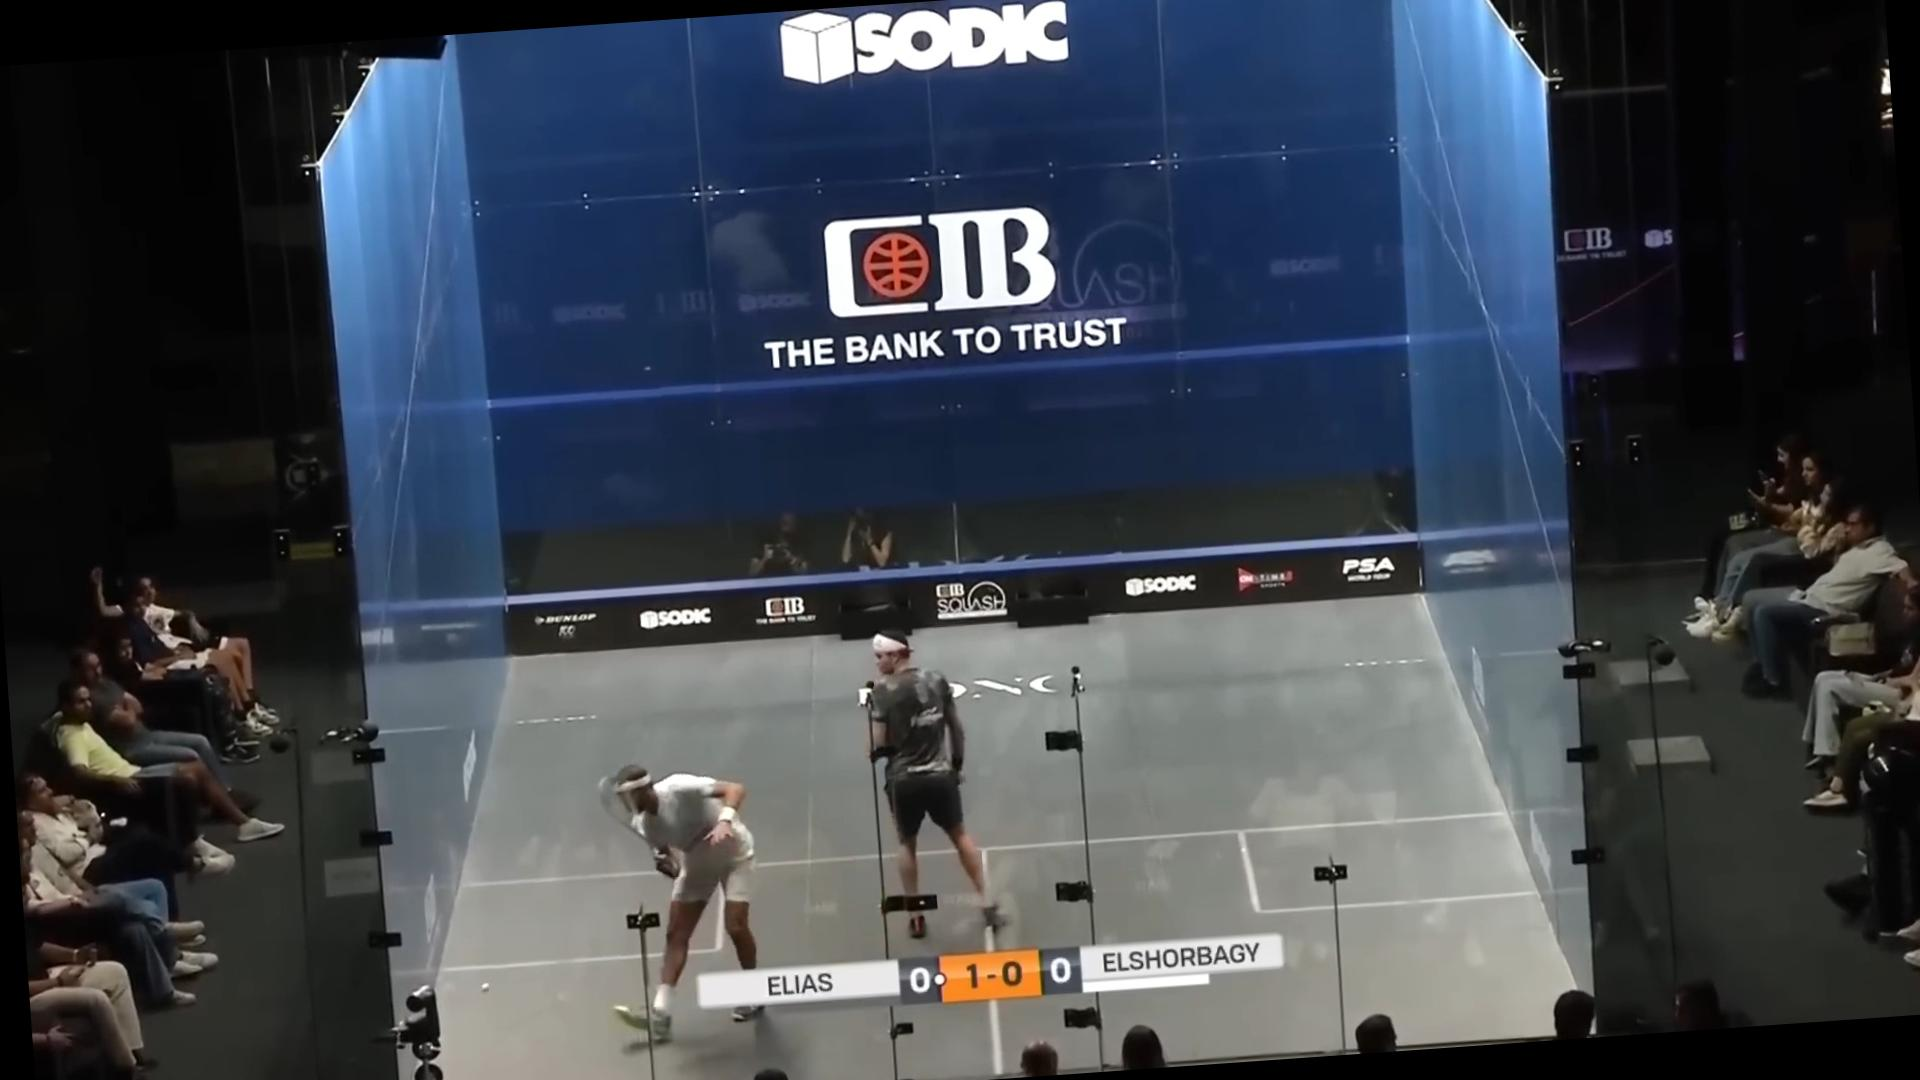Squash-Ball: (468, 967, 501, 1006)
